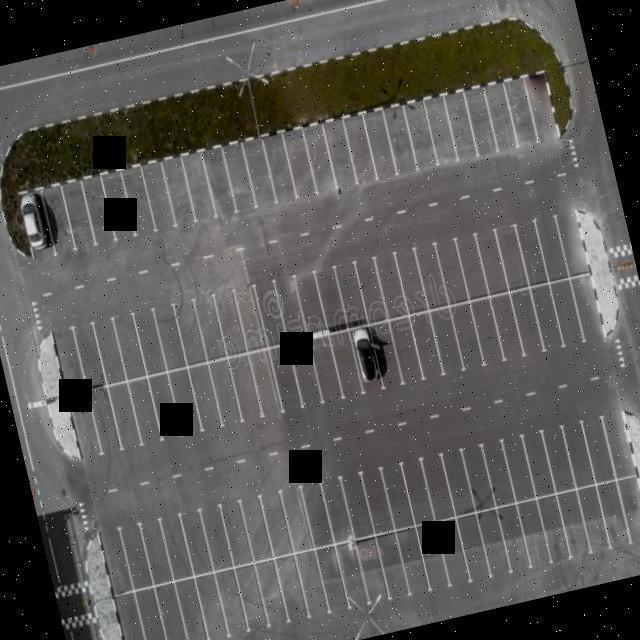Car: (20, 192, 58, 250), (350, 330, 382, 390), (18, 192, 48, 252), (354, 328, 387, 381)
Free: (439, 90, 482, 163), (418, 95, 460, 169), (457, 88, 501, 158), (340, 116, 382, 187), (521, 71, 561, 144), (379, 107, 421, 176), (482, 80, 520, 156), (320, 122, 360, 193), (360, 113, 401, 182), (290, 268, 332, 335), (299, 126, 340, 194), (534, 498, 576, 564), (209, 564, 250, 631), (504, 76, 541, 150), (574, 481, 613, 551), (280, 131, 320, 199), (60, 389, 100, 457), (401, 102, 440, 170), (259, 136, 299, 202), (229, 563, 270, 627), (545, 285, 587, 347), (553, 491, 593, 556), (390, 249, 431, 312), (570, 281, 611, 344), (240, 142, 280, 206), (285, 342, 325, 406), (271, 555, 311, 619), (495, 507, 535, 571), (229, 282, 268, 347), (157, 515, 196, 580), (182, 157, 220, 223), (515, 501, 553, 567), (532, 218, 572, 280), (600, 415, 640, 477), (454, 514, 494, 576), (474, 510, 514, 572), (201, 152, 239, 217), (126, 375, 164, 440), (148, 370, 186, 435), (137, 521, 176, 584), (357, 468, 396, 531), (394, 528, 433, 591), (470, 302, 506, 370), (87, 384, 124, 450), (130, 309, 170, 370), (90, 316, 128, 380), (224, 354, 263, 416), (173, 296, 210, 361), (271, 276, 311, 336), (266, 348, 306, 408), (197, 504, 237, 564), (333, 257, 368, 325), (352, 537, 391, 598), (480, 443, 519, 504), (500, 439, 539, 500), (520, 434, 559, 495), (429, 310, 466, 374), (489, 298, 526, 362), (178, 508, 215, 572), (374, 533, 411, 597), (420, 460, 460, 519), (594, 483, 634, 542), (449, 307, 487, 369), (528, 291, 566, 353), (460, 448, 498, 510), (118, 526, 156, 588), (311, 546, 349, 608), (141, 158, 173, 231), (415, 524, 452, 587), (98, 531, 135, 594), (252, 559, 289, 622), (412, 247, 450, 308), (540, 429, 578, 490), (162, 161, 197, 227), (353, 254, 388, 320), (108, 381, 144, 445), (308, 334, 344, 398), (511, 294, 547, 358), (581, 418, 617, 482), (436, 518, 472, 582), (211, 288, 248, 350), (257, 492, 295, 552), (556, 213, 592, 276), (237, 496, 274, 557), (560, 425, 597, 486), (153, 302, 188, 366), (194, 572, 229, 636), (222, 148, 258, 210), (111, 313, 147, 375), (435, 241, 471, 303), (454, 240, 492, 298), (250, 352, 286, 413), (294, 550, 329, 612), (313, 266, 349, 326), (374, 256, 410, 316), (495, 230, 531, 290), (514, 224, 550, 284), (299, 484, 335, 544), (381, 465, 417, 525), (278, 490, 315, 548), (474, 234, 510, 293), (121, 170, 155, 232), (192, 294, 226, 356), (170, 369, 204, 431), (253, 280, 288, 340), (220, 500, 255, 560), (336, 543, 371, 603), (400, 461, 435, 521), (442, 454, 477, 514), (102, 175, 136, 236), (210, 359, 244, 420), (410, 317, 444, 378), (74, 321, 106, 385), (44, 190, 78, 250), (176, 578, 210, 638), (341, 475, 375, 535), (62, 184, 94, 246), (391, 322, 424, 382), (320, 479, 354, 537), (82, 179, 114, 240), (330, 330, 359, 396), (154, 582, 187, 640), (190, 365, 224, 421), (525, 70, 555, 133), (132, 586, 167, 638), (53, 329, 83, 389), (374, 326, 404, 386), (615, 478, 640, 546), (102, 196, 140, 234), (91, 134, 128, 173), (115, 597, 146, 640), (529, 70, 547, 83)
